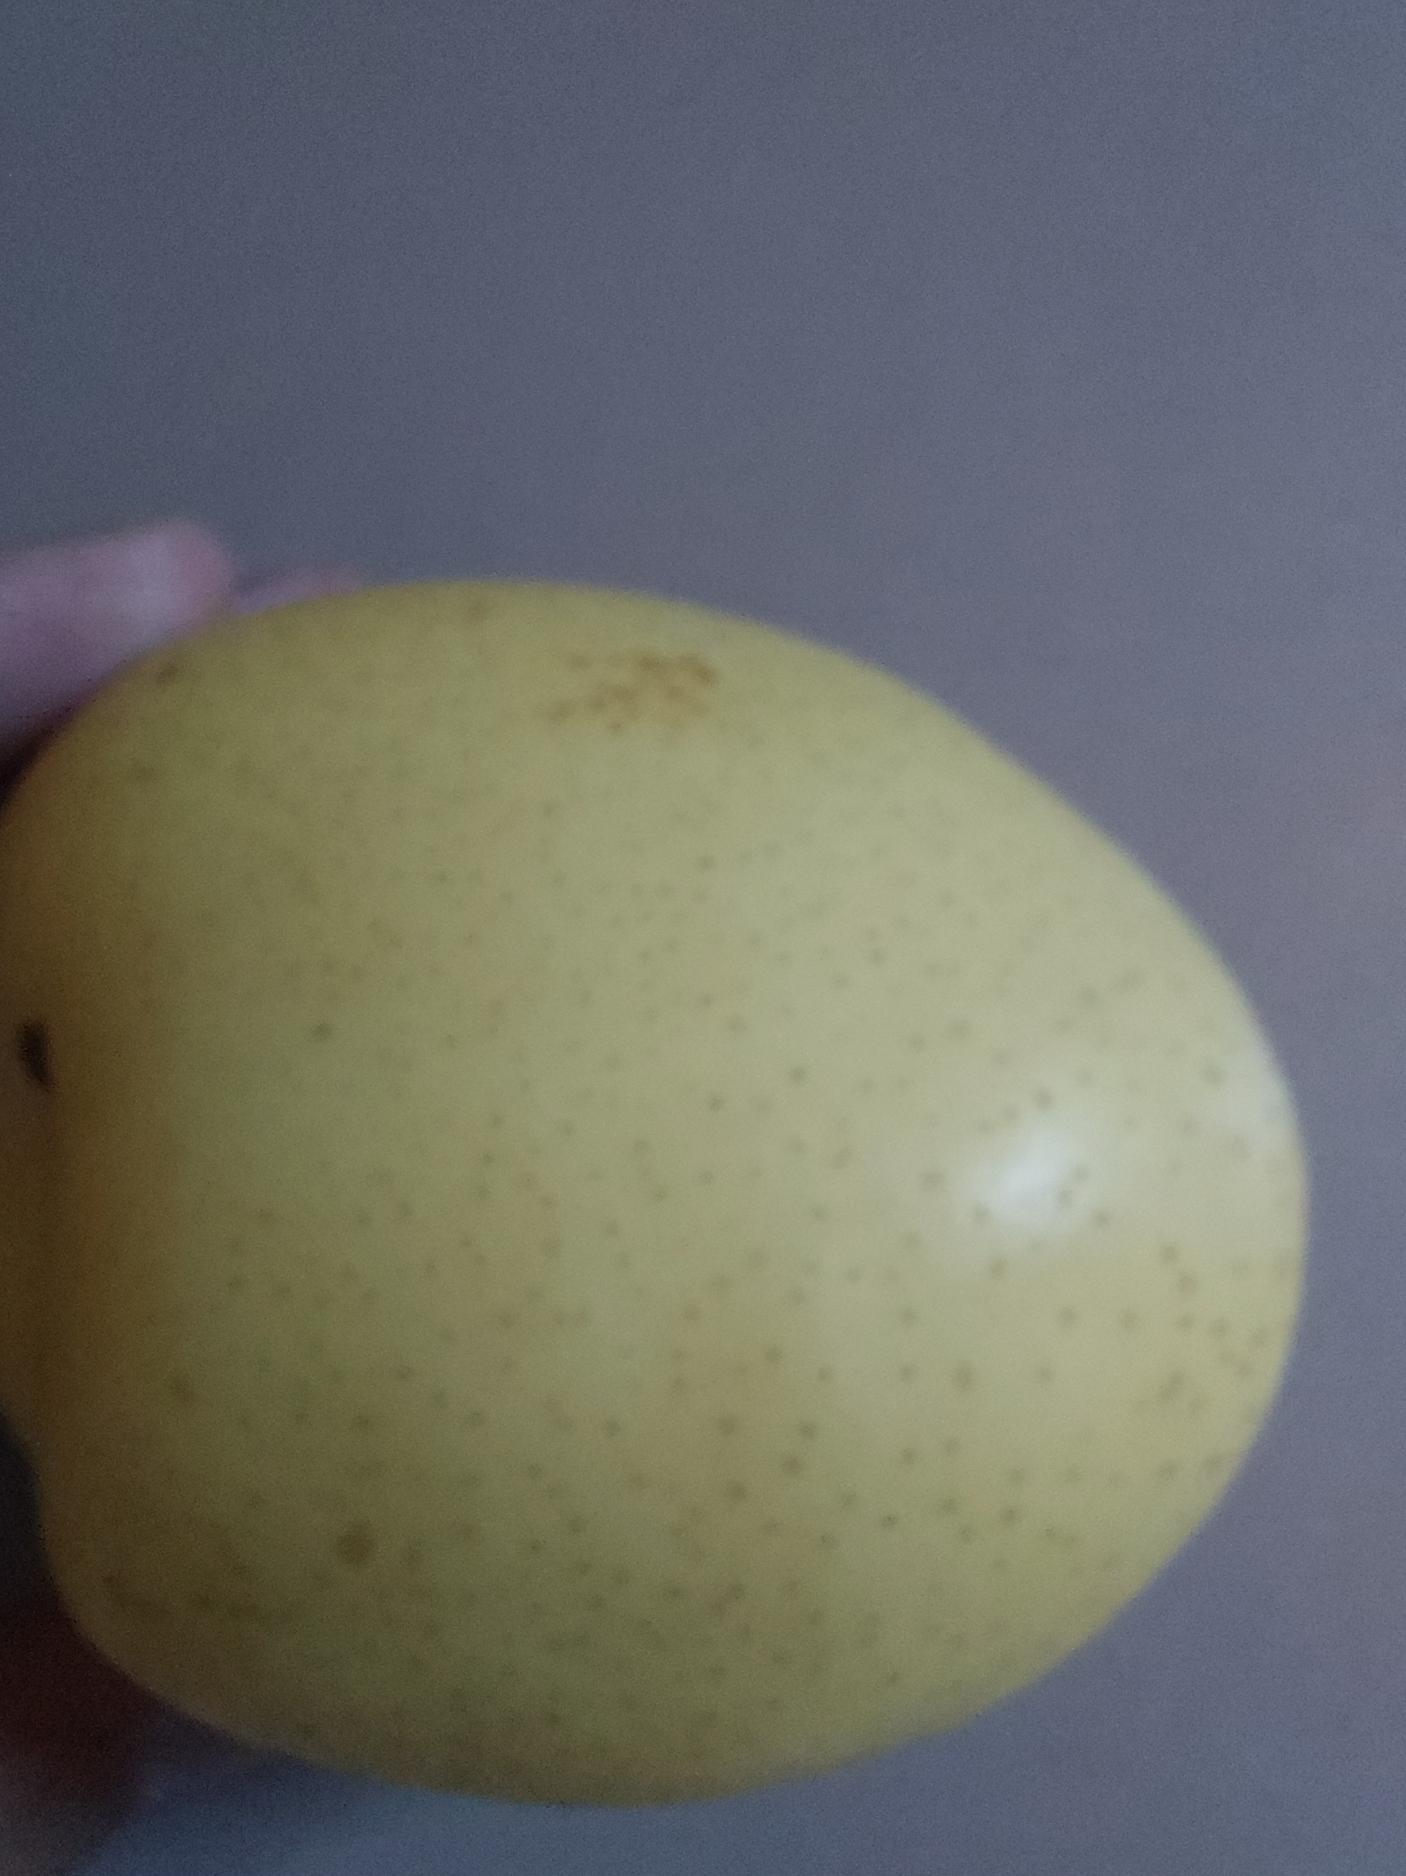Good Pear: (71, 583, 1338, 1830)
